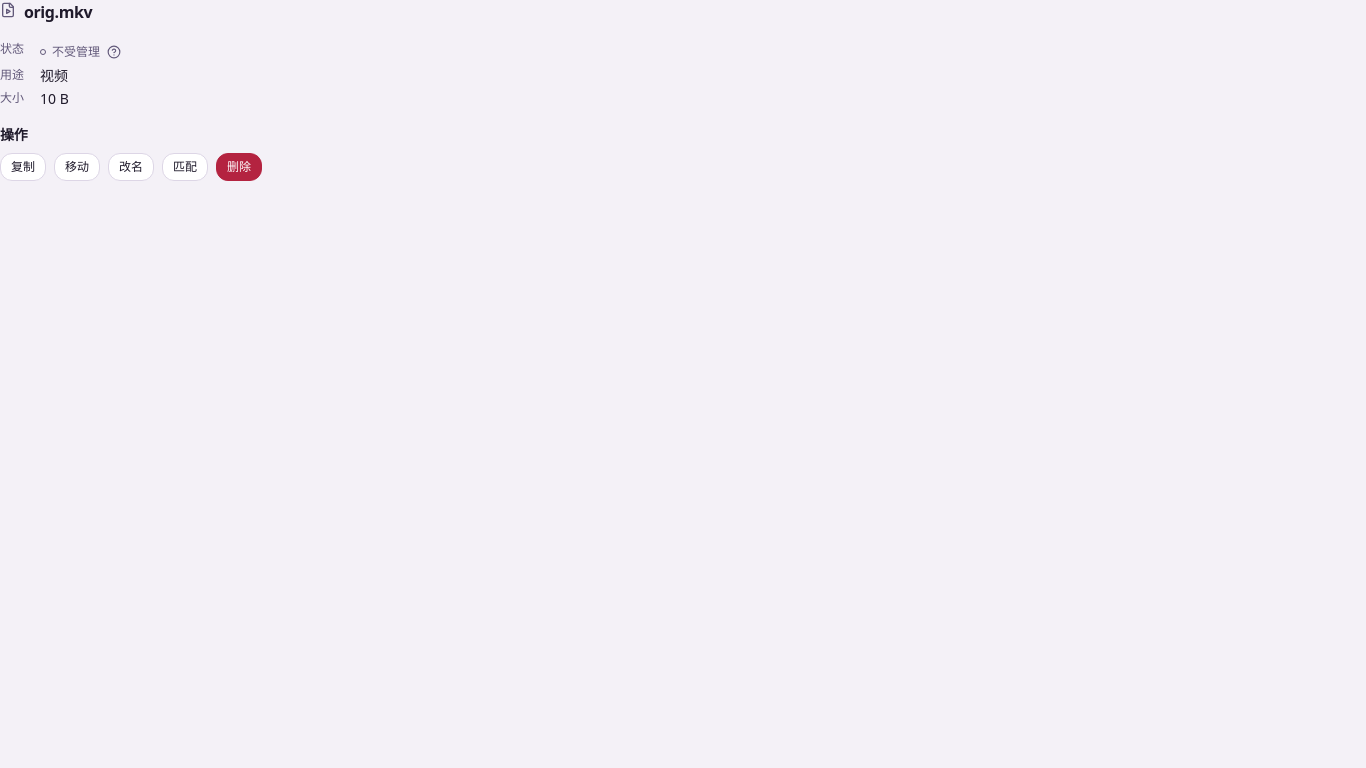
match dialog › starts from the file's own anime, picks the season and episode from TMDB and previews without writing
Click the button "匹配" at (185, 166), box [162,152,208,180]
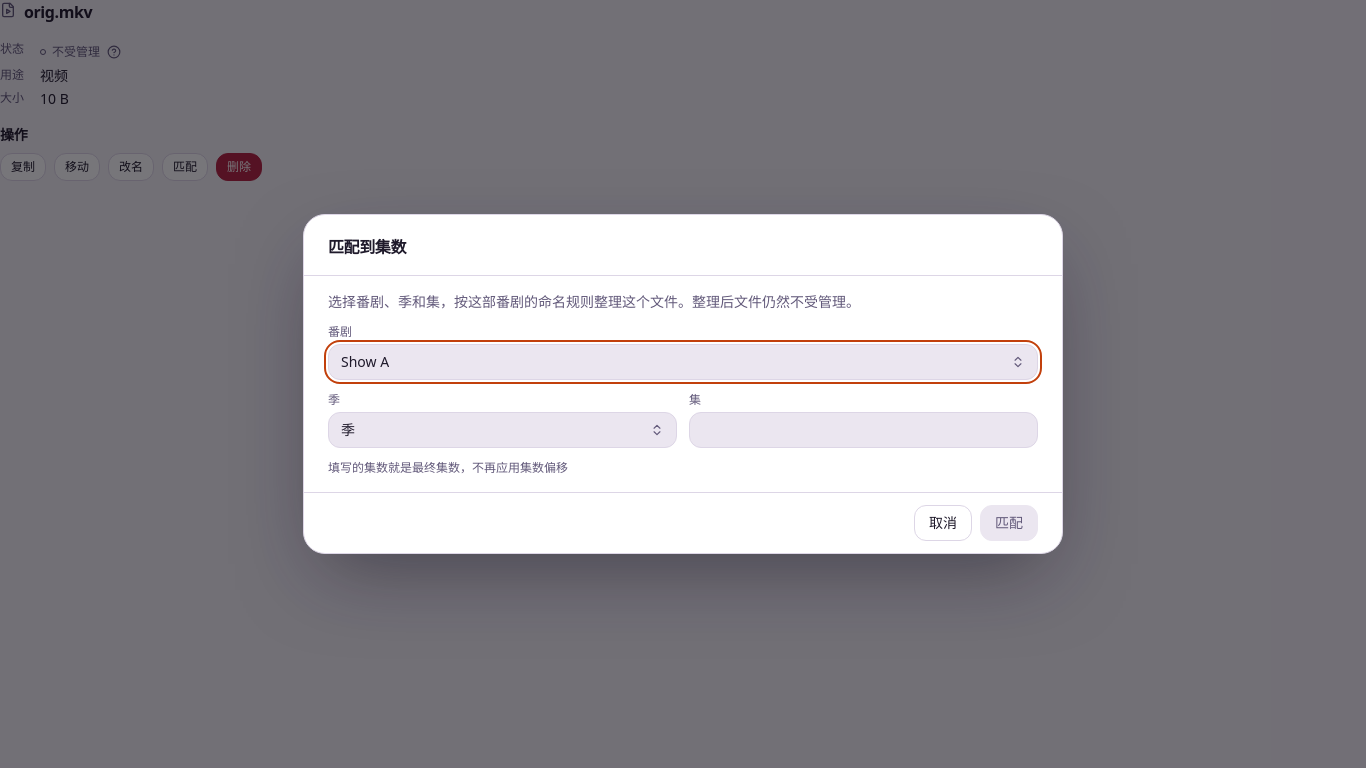
Result: the dropdown named "番剧" reads "Show A" at [328,344,1038,380]
Click the dropdown labelled "季" at (348, 430), box [328,412,677,448]
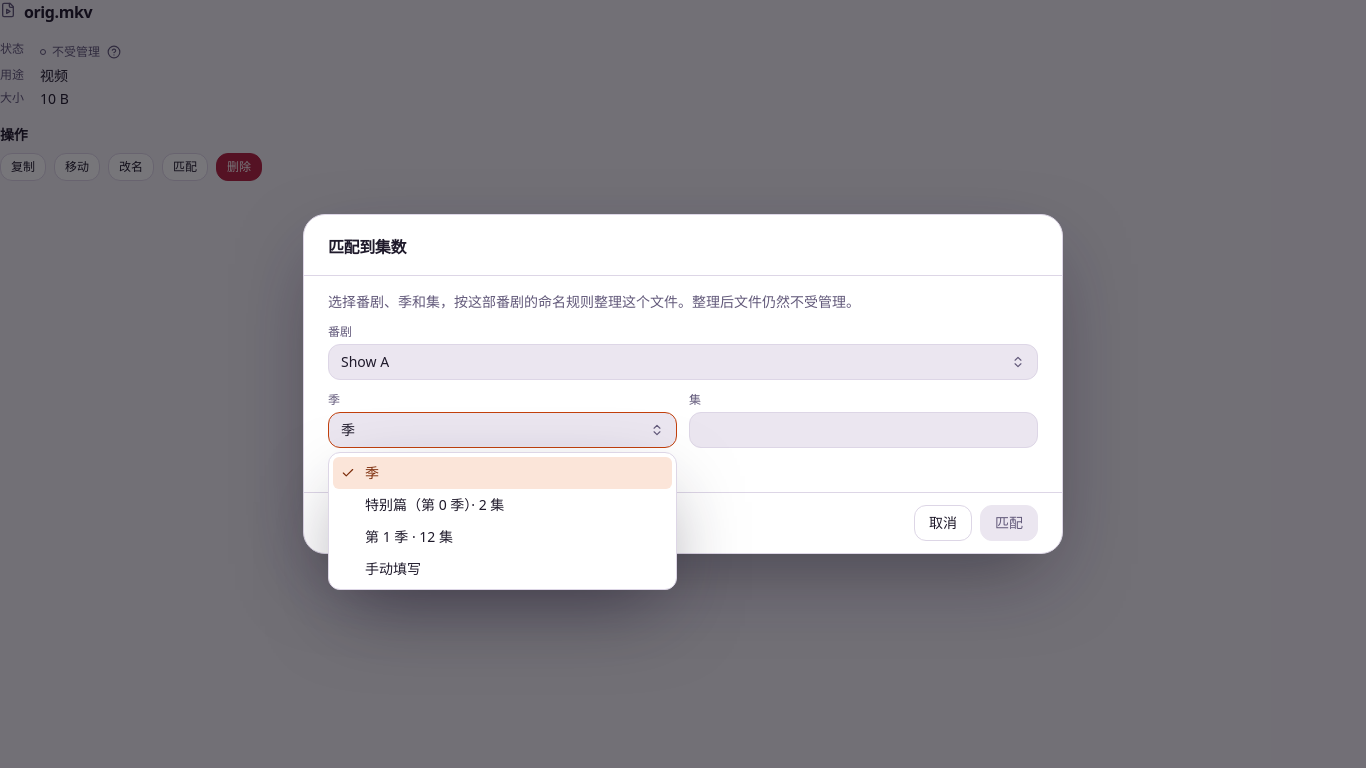
Click the option "第 1 季 · 12 集" at (409, 536), box [365,527,453,546]
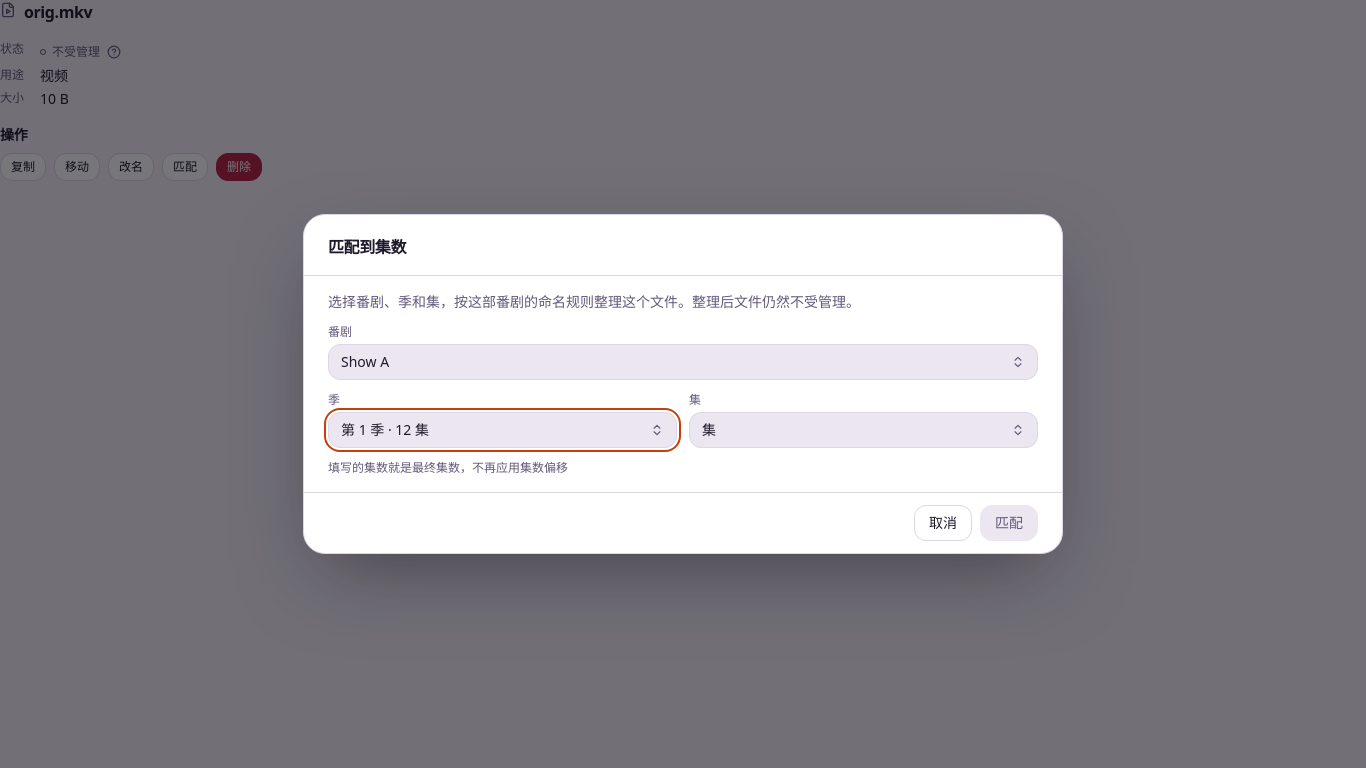
Click the dropdown labelled "集" at (709, 430), box [689,412,1038,448]
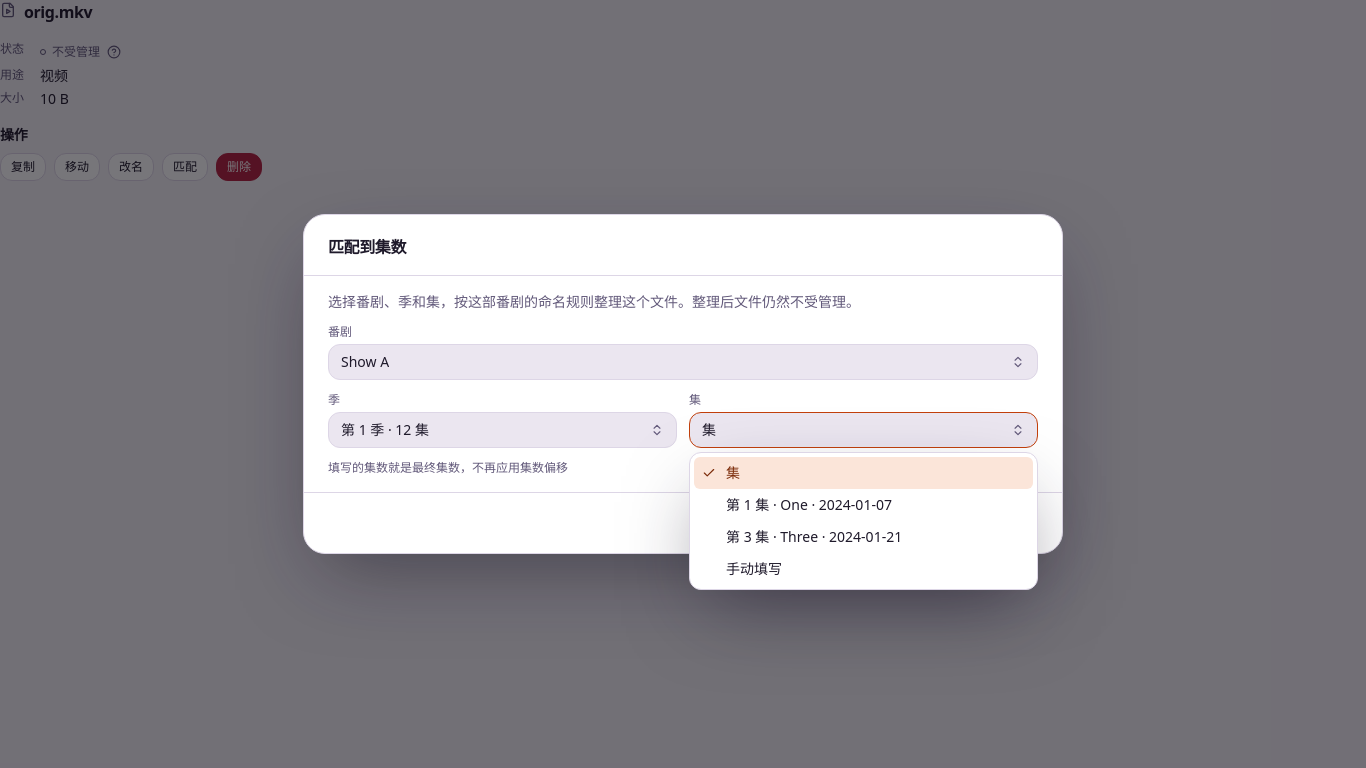
Click the option "第 3 集 · Three · 2024-01-21" at (814, 536), box [726,527,902,546]
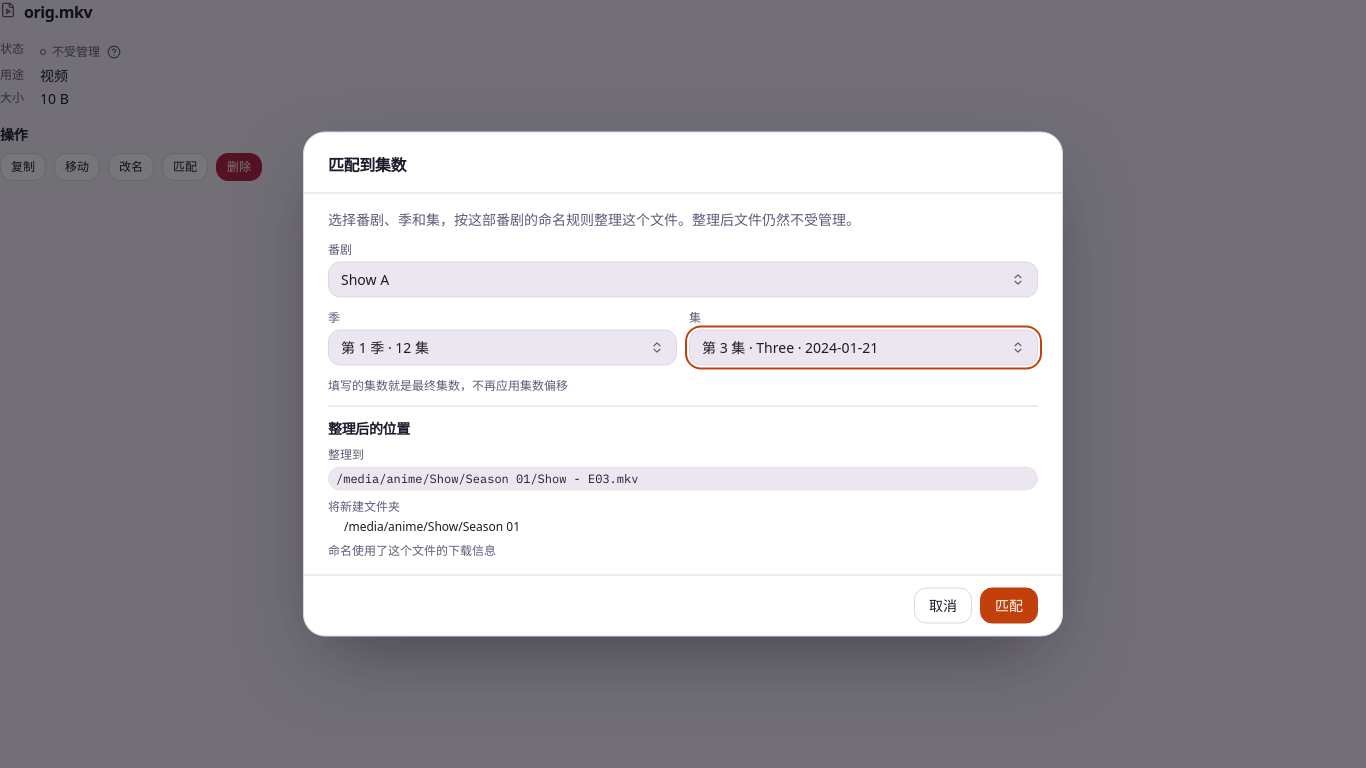
Result: the text "/media/anime/Show/Season 01/Show - E03.mkv" is shown at [328,466,1038,490]
Result: the list item "/media/anime/Show/Season 01" is shown at [344,518,520,534]
